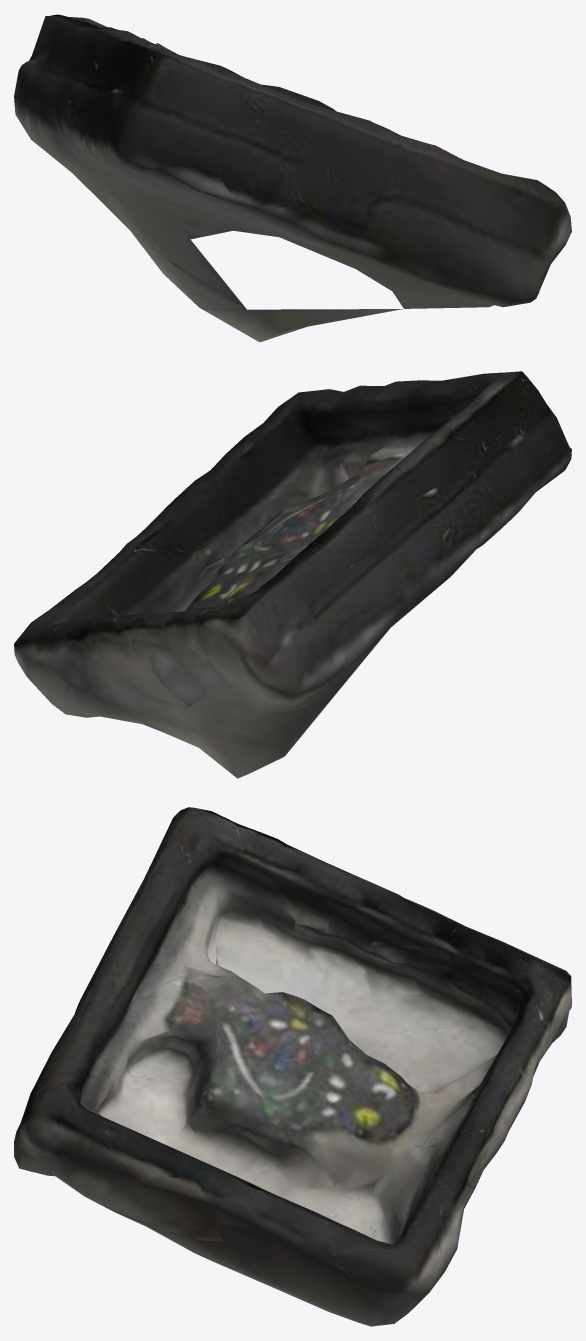
Rendered from hall.glb.
The picture shows the model from 3 angles, top to bottom: view 1: azimuth 30°, elevation 25°; view 2: azimuth 150°, elevation 25°; view 3: azimuth 270°, elevation 25°; orthographic projection. The views are drawn at different scales.
Bounding box in the file's own units: 0.6732 × 0.5599 × 0.7488.
1 material, 1 textured.
